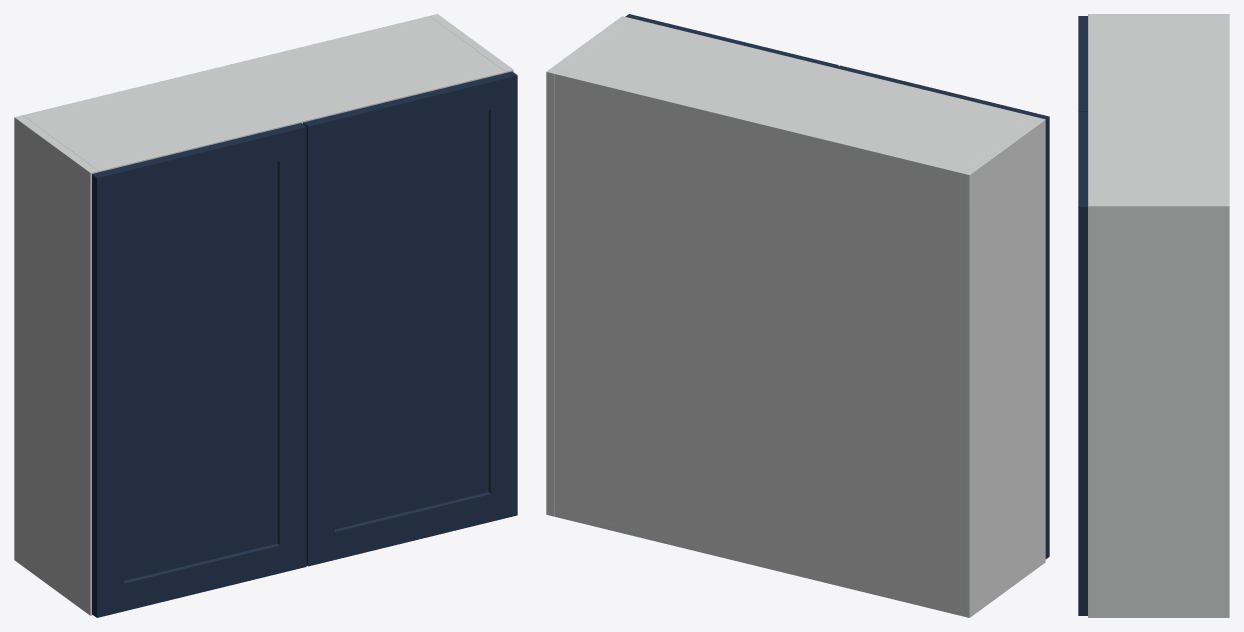
The model's file is oppein-ply-bss-w3636.glb.
3 views of the same model, side by side, from view 1: azimuth 30°, elevation 25°; view 2: azimuth 150°, elevation 25°; view 3: azimuth 270°, elevation 25° (orthographic). The views are drawn at different scales.
Parts seen in each view (by area): view 1: Door, Door.001, Cabinet side, Cabinet top, Cabinet back, Cabinet side.001; view 2: Cabinet back, Cabinet side, Cabinet top, Cabinet side.001, Door, Cabinet bottom, Door.001; view 3: Cabinet side.001, Cabinet top, Door.001, Cabinet back, Door, Cabinet side.
Boxes of the visible parts, x1,y1,x2,y2 form: Door: [92, 123, 306, 617]; Door.001: [303, 71, 517, 566]; Cabinet side: [14, 115, 98, 615]; Cabinet top: [26, 18, 505, 172]; Cabinet back: [23, 16, 431, 117]; Cabinet side.001: [430, 14, 513, 72]; Cabinet back: [554, 71, 963, 615]; Cabinet side: [961, 117, 1045, 617]; Cabinet top: [555, 18, 1036, 179]; Cabinet side.001: [546, 16, 630, 516]; Door: [836, 65, 1049, 558]; Cabinet bottom: [554, 508, 952, 613]; Door.001: [625, 14, 838, 67]; Cabinet side.001: [1088, 202, 1229, 617]; Cabinet top: [1088, 17, 1229, 202]; Door.001: [1078, 111, 1087, 615]; Cabinet back: [1224, 17, 1229, 202]; Door: [1078, 16, 1087, 111]; Cabinet side: [1088, 14, 1229, 17].
Bounding box in the file's own units: 0.9144 × 0.9144 × 0.3048.
